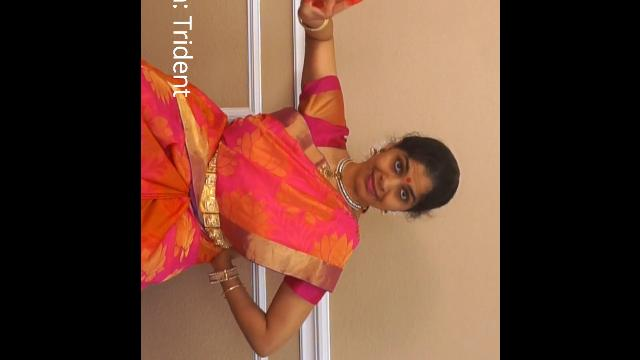trishool: (278, 0, 383, 32)
